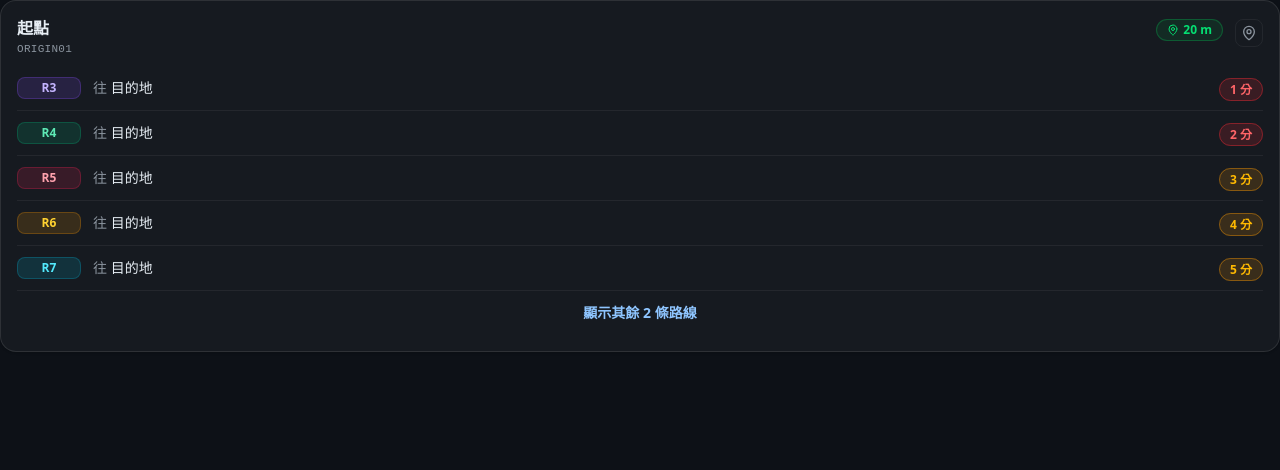
Test case: StopCard route list › shows five routes with the earliest valid ETAs first and lets riders reveal the rest
Click the button "顯示其餘 2 條路線" at [640, 312], box top-left (17, 290), bottom-right (1263, 334)
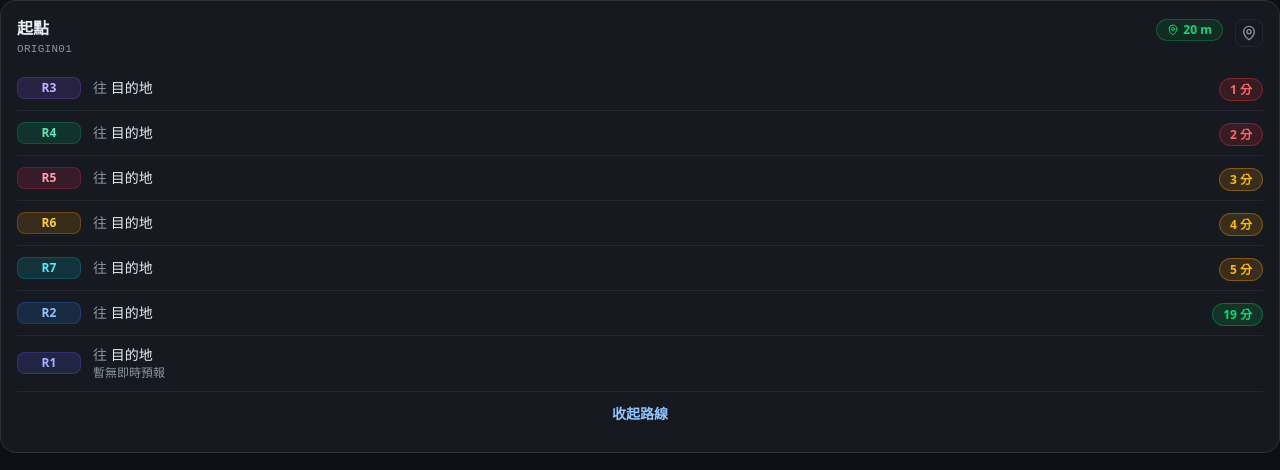
Expected: the number of links "R3" is 7
Click the button "收起路線" at [640, 414], box top-left (17, 392), bottom-right (1263, 436)
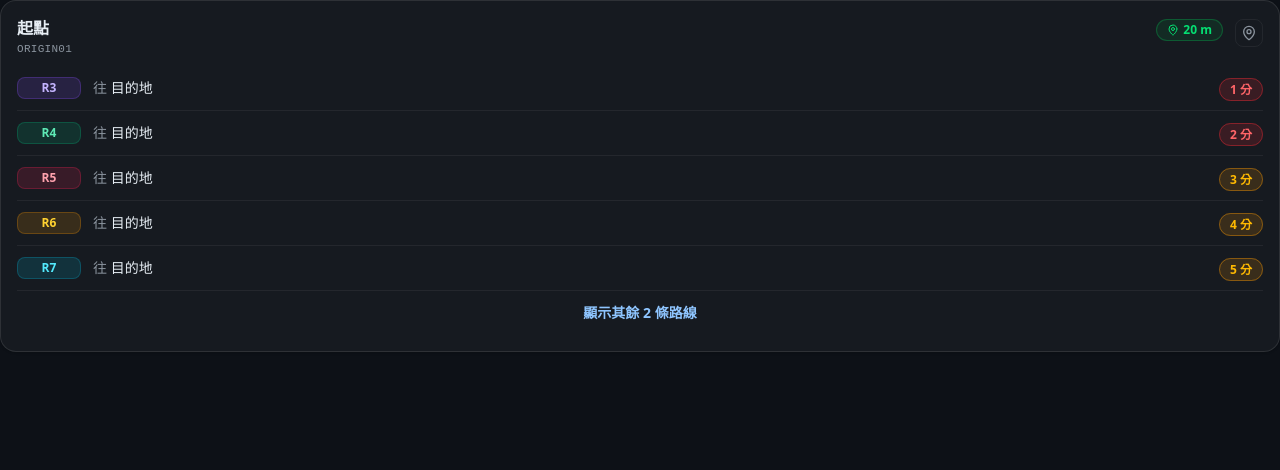
Expected: the number of links "R3" is 5, top-left (17, 76), bottom-right (81, 98); top-left (17, 122), bottom-right (81, 144); top-left (17, 166), bottom-right (81, 188); top-left (17, 212), bottom-right (81, 234); top-left (17, 256), bottom-right (81, 278)
